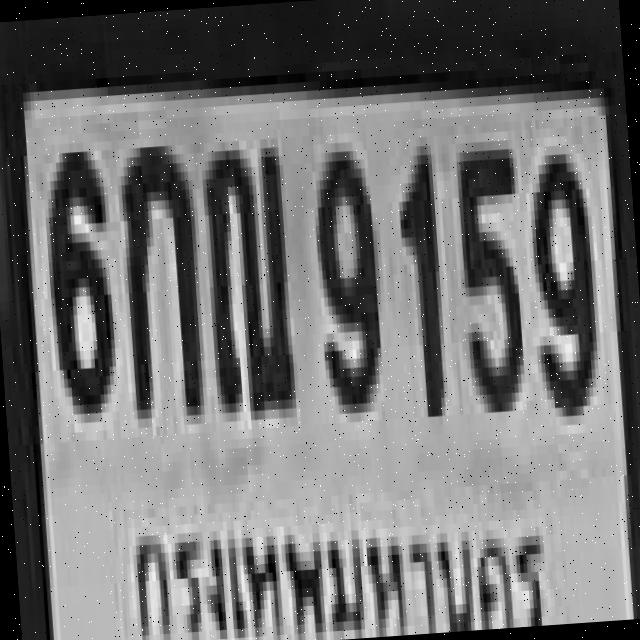1: (391, 136, 445, 408)
10GorGai: (114, 135, 200, 410)
28NorNen: (196, 128, 296, 414)
5: (451, 140, 526, 404)
6: (40, 142, 115, 406)
9: (306, 141, 381, 406), (522, 144, 597, 408)
Bangkok: (123, 480, 563, 640)
